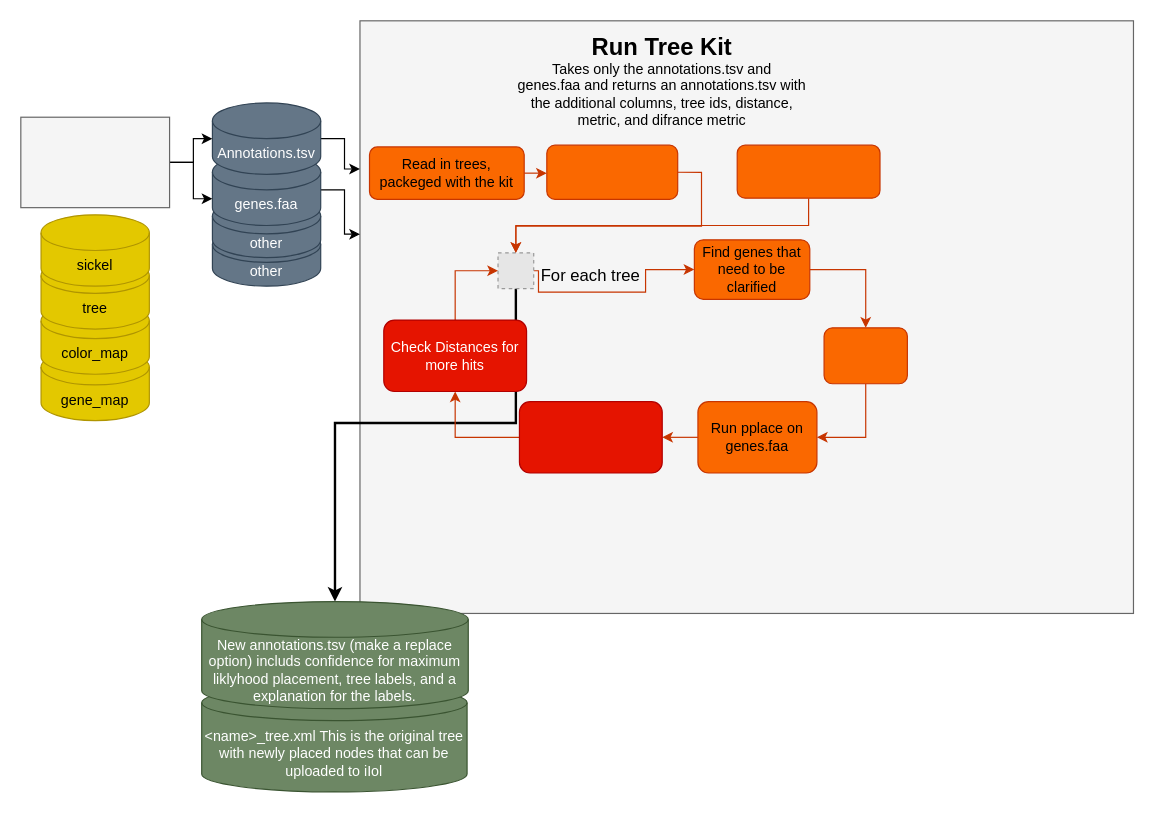
The diagram is 1154 pixels wide and 813 high, and some of its shapes have lost their labels. Grey dashed boxes stand in for pictures. The box of each missing label's shape, as (x1, y1, x2, y2) in pixels:
Deturmine definitve gene landings: (518, 400, 662, 473)
Filter genes.faa: (823, 327, 907, 384)
Locate Definitive nodes (need colors): (546, 144, 678, 199)
Read in annotations.tsv: (736, 144, 880, 198)
Run DRAM with no additional arguments: (20, 116, 170, 208)
